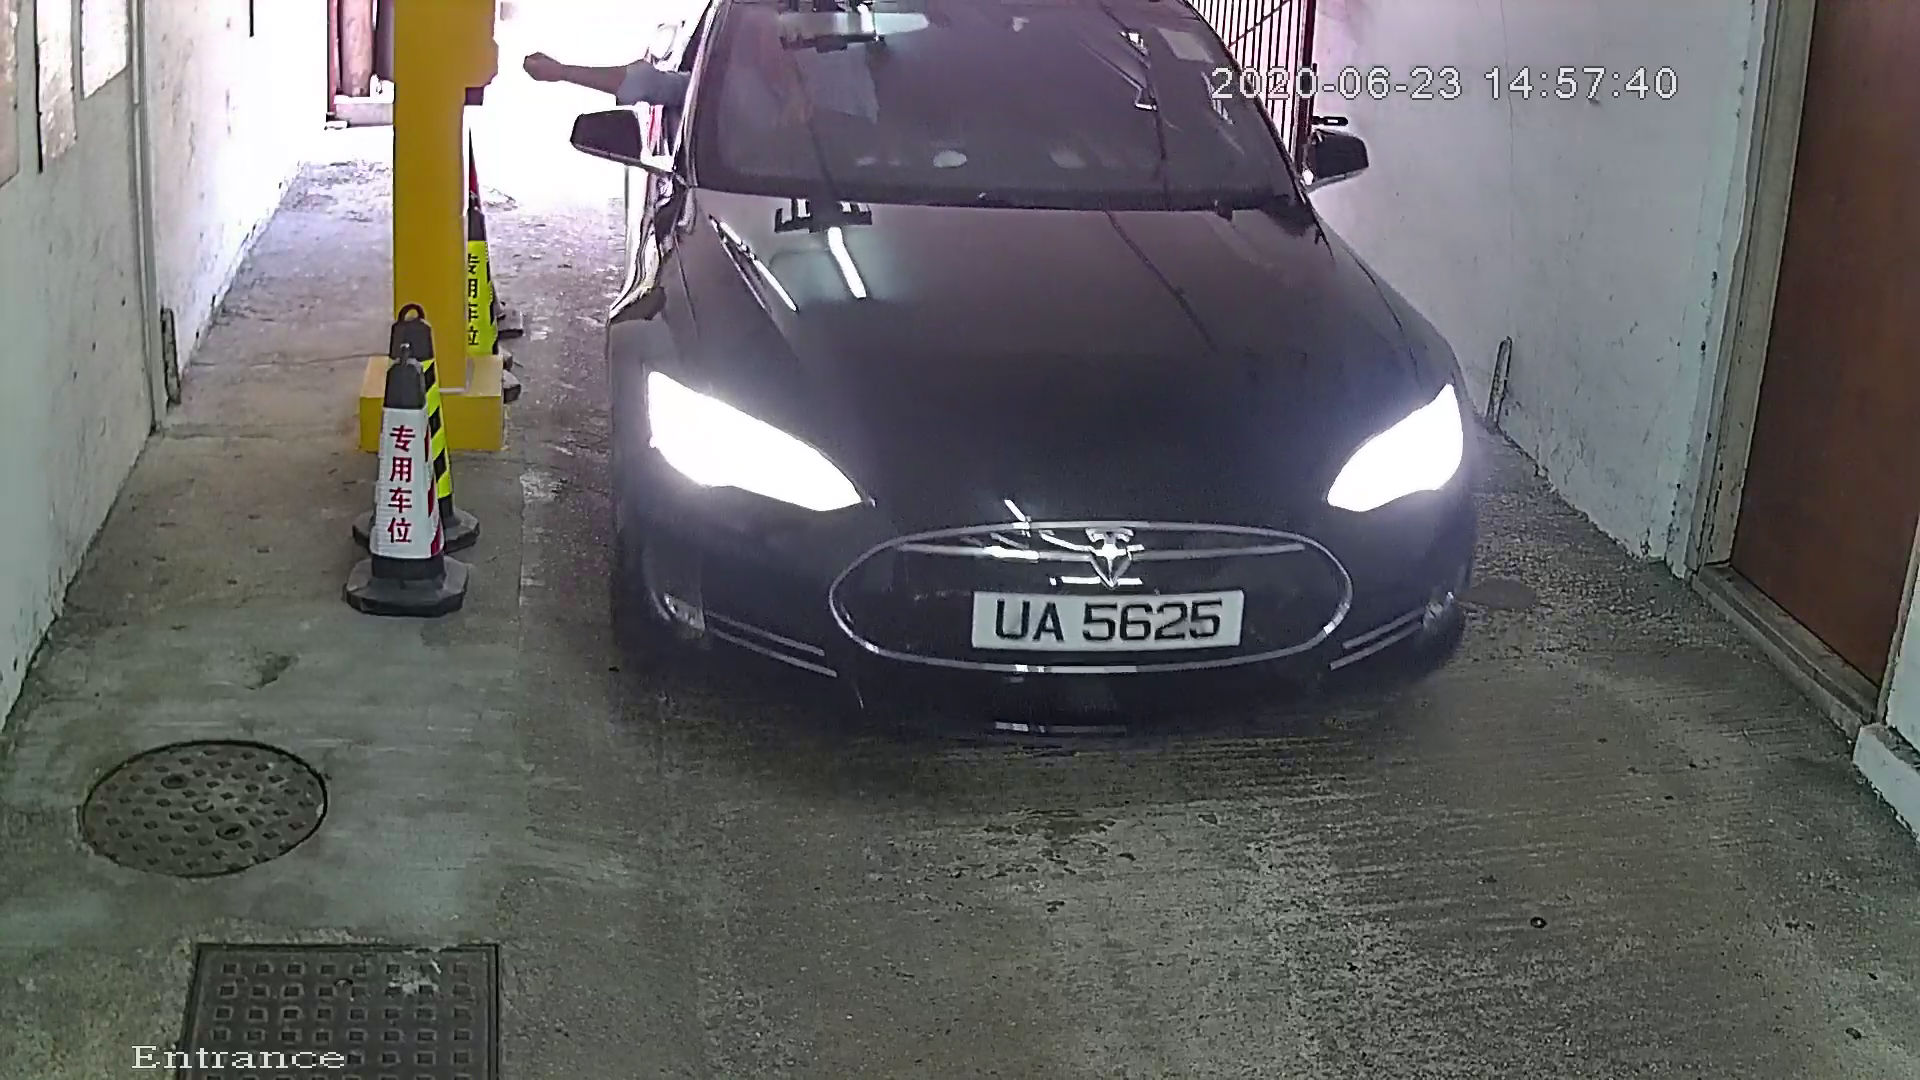privatecar: (566, 1, 1516, 744)
